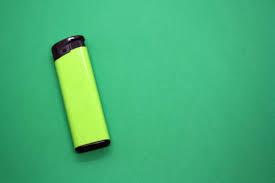lighter: (52, 35, 111, 155)
